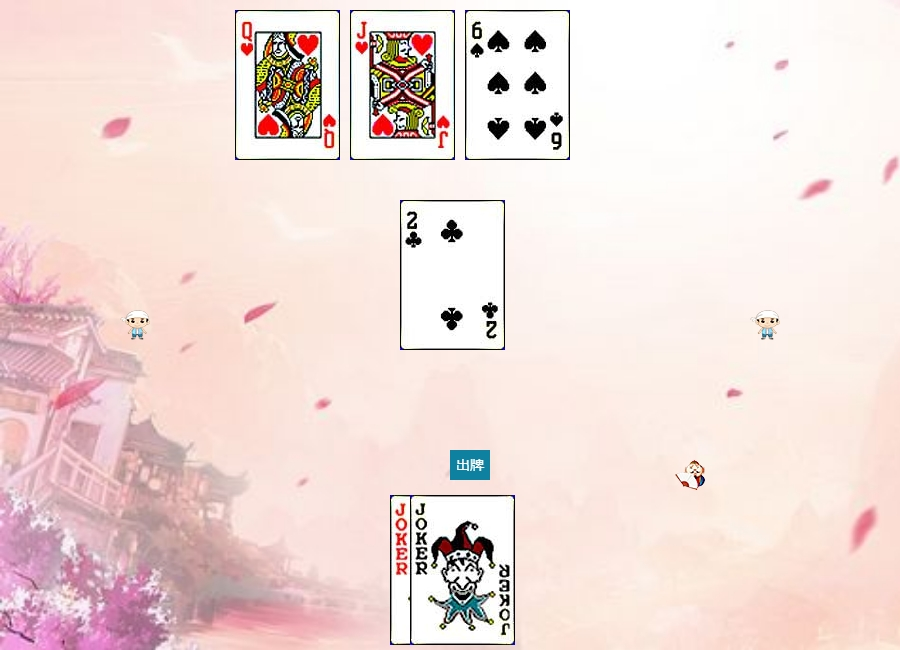11~3: (350, 10, 455, 160)
12~3: (235, 10, 340, 160)
15~2: (400, 200, 505, 350)
17~3: (410, 495, 515, 645)
18~4: (390, 495, 495, 645)
6~4: (465, 10, 570, 160)
